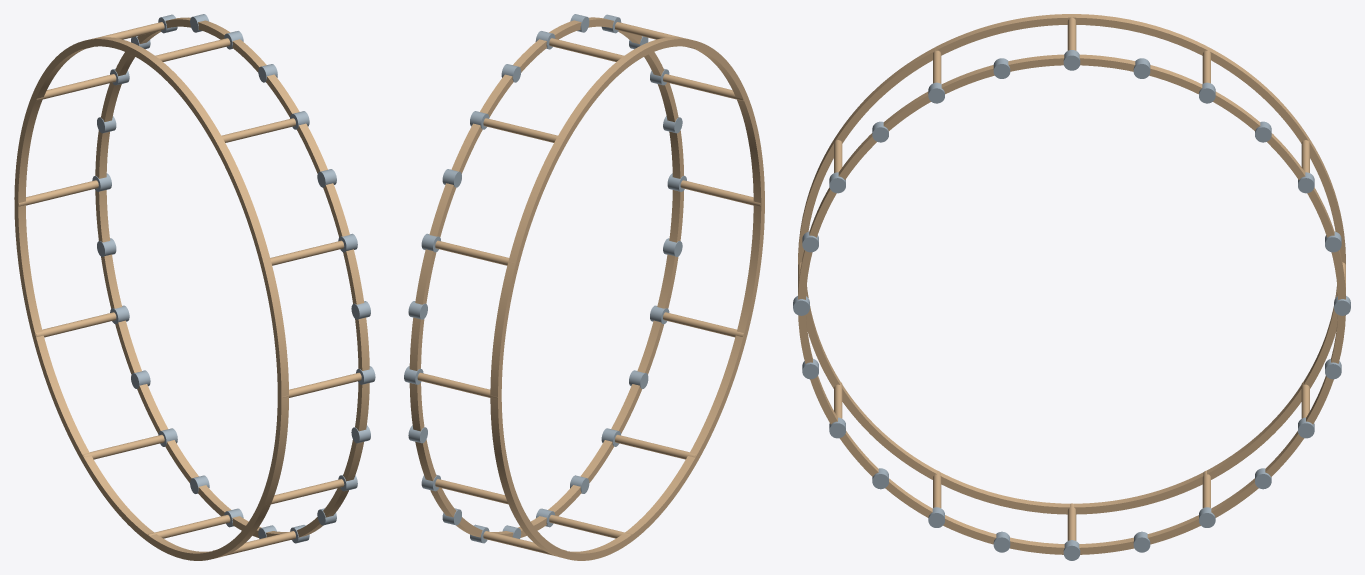
File: compressor-vsv-linkage.glb
3 renders of one model, left to right at view 1: azimuth 30°, elevation 25°; view 2: azimuth 150°, elevation 25°; view 3: azimuth 270°, elevation 25°, orthographic. The views are drawn at different scales.
Visible parts, largest first — view 1: compressor-vsv-linkage - bronze, compressor-vsv-linkage - steel; view 2: compressor-vsv-linkage - bronze, compressor-vsv-linkage - steel; view 3: compressor-vsv-linkage - bronze, compressor-vsv-linkage - steel.
Part boxes in pixels (x1,y1,x2,y2): compressor-vsv-linkage - bronze: (14,17,369,560); compressor-vsv-linkage - steel: (92,14,375,543); compressor-vsv-linkage - bronze: (409,17,764,560); compressor-vsv-linkage - steel: (404,14,686,543); compressor-vsv-linkage - bronze: (798,14,1345,554); compressor-vsv-linkage - steel: (793,50,1350,560).
Bounding box in the file's own units: 0.363 × 1.86 × 1.86.
